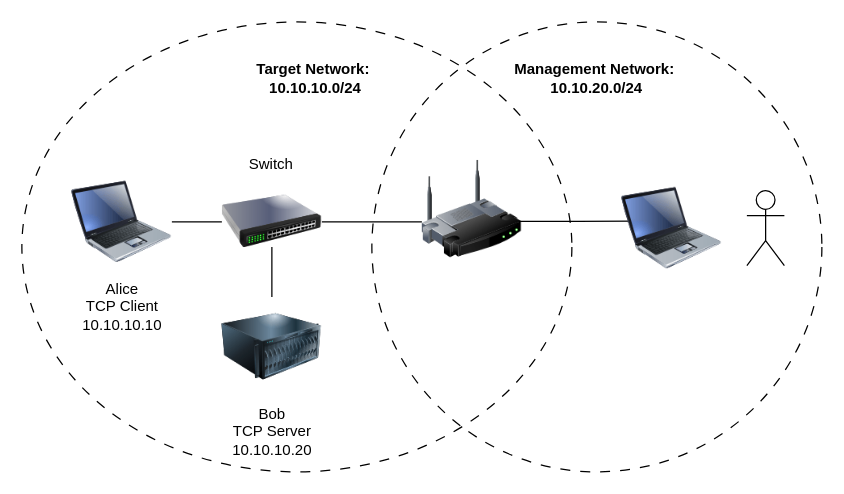
Image size: 844x494. Some labels were removed from this diagram. The shapes that lost their labels are listed below. From the top down, each one's box as (x1, y1, x2, y2) in pixels, then its label:
(421, 159, 521, 259): NSAK 10.10.10.30 10.10.20.30
(746, 189, 784, 266): Operator
